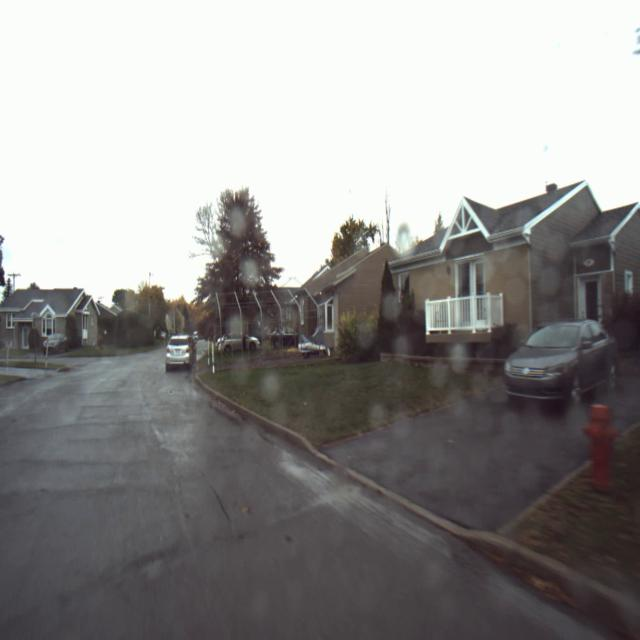car: (496, 301, 621, 408), (156, 320, 203, 378)
